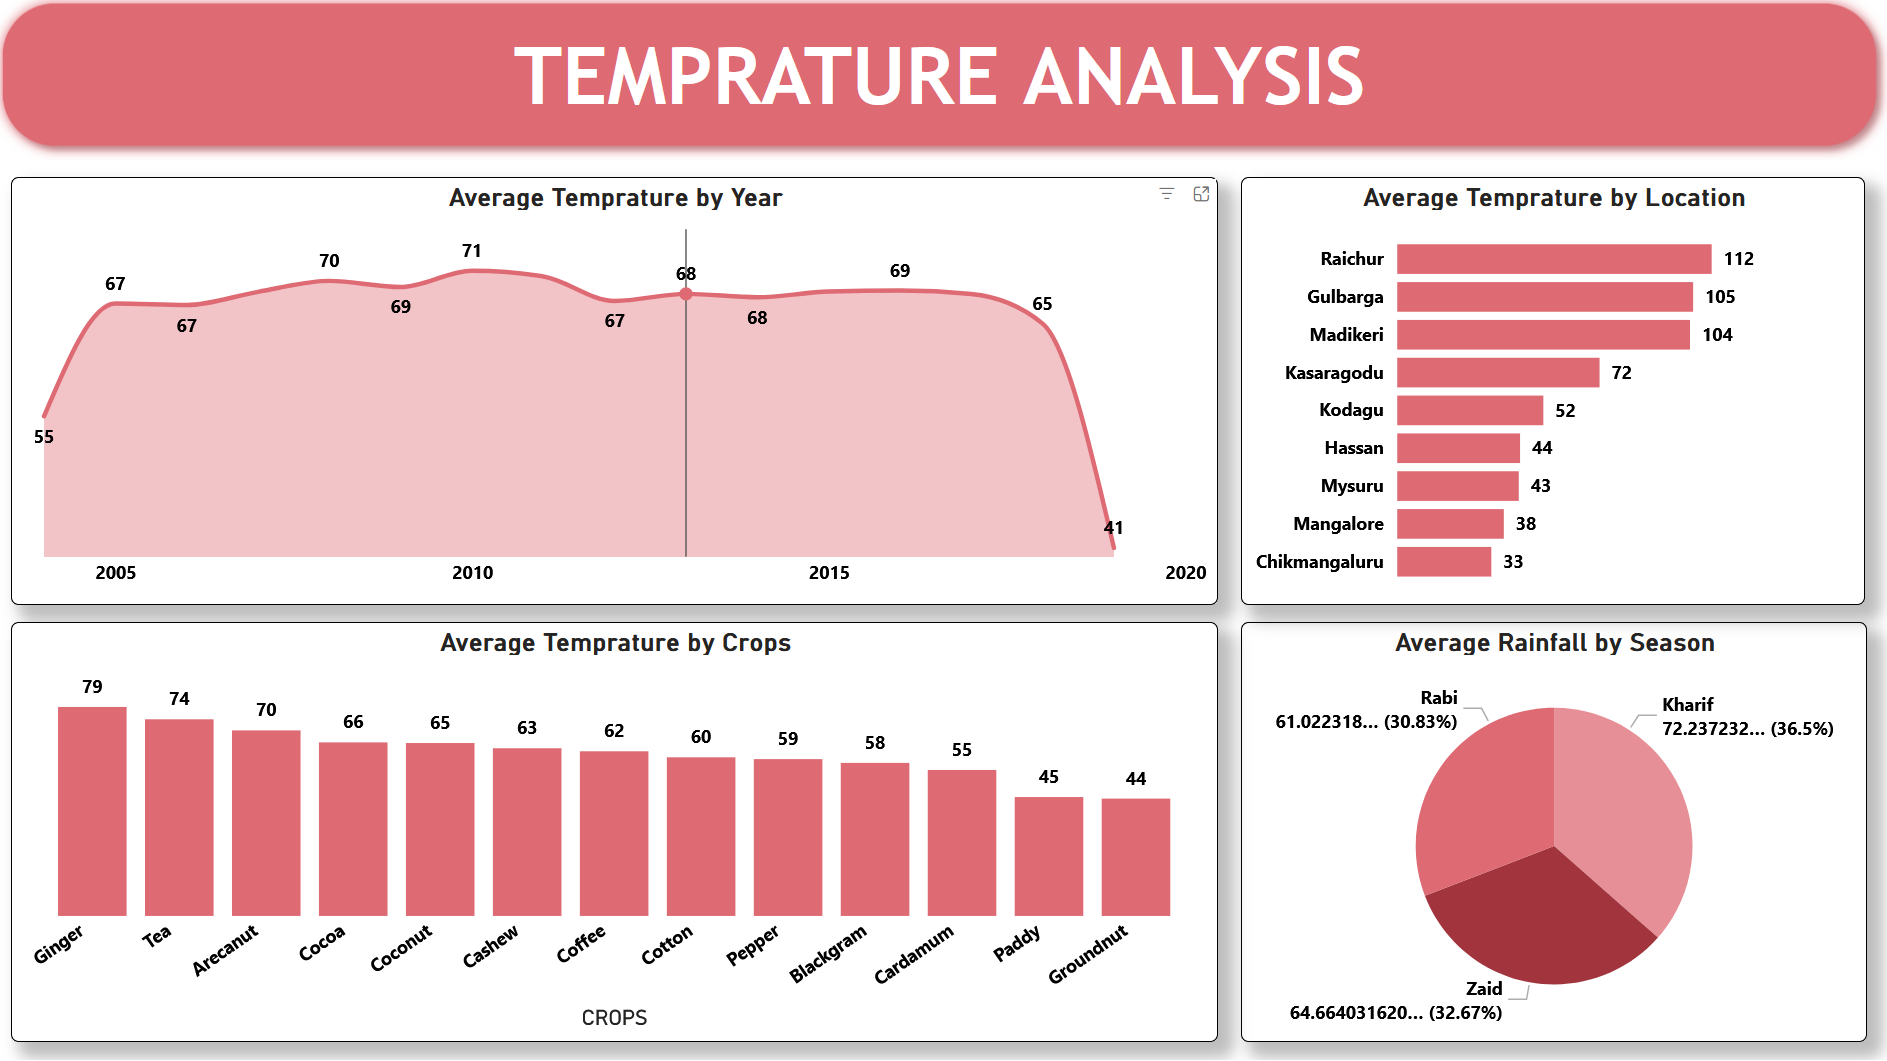

What the dashboard file says about the page in this screenshot:
{"tool":"powerbi","page":{"name":"Temprature Aanalysis","canvas":[1280,720],"ordinal":0},"visuals":[{"type":"shape","box":[0,0,1280,113.6],"z":0},{"type":"lineChart","title":"Average Temprature by Year","fields":{"Category":["AGRICULTURE.YEAR"],"Y":["Sum(AGRICULTURE.TEMPERATURE)"]},"box":[13.9,125.5,812.8,287.9],"z":1000},{"type":"pieChart","title":"Average Rainfall by Season","fields":{"Category":["AGRICULTURE.SEASON"],"Y":["Sum(AGRICULTURE.TEMPERATURE)"]},"box":[842.7,425.3,421.4,282.9],"z":2000},{"type":"columnChart","title":"Average Temprature by Crops","fields":{"Category":["AGRICULTURE.CROPS"],"Y":["Sum(AGRICULTURE.TEMPERATURE)"]},"box":[13.9,425.3,812.8,282.9],"z":3000},{"type":"barChart","title":"Average Temprature by Location","fields":{"Category":["AGRICULTURE.LOCATION"],"Y":["Sum(AGRICULTURE.TEMPERATURE)"]},"box":[842.7,125.5,420.4,287.9],"z":4000}]}

Visuals, with their boxes in screenshot pixels (x1, y1, x2, y2), scaled from the page's 1280x720 canvas onto the 1887x1061 screenshot:
shape: bbox=[0, 0, 1886, 167]
"Average Temprature by Year" lineChart: bbox=[20, 185, 1219, 609]
"Average Rainfall by Season" pieChart: bbox=[1242, 627, 1864, 1044]
"Average Temprature by Crops" columnChart: bbox=[20, 627, 1219, 1044]
"Average Temprature by Location" barChart: bbox=[1242, 185, 1862, 609]
